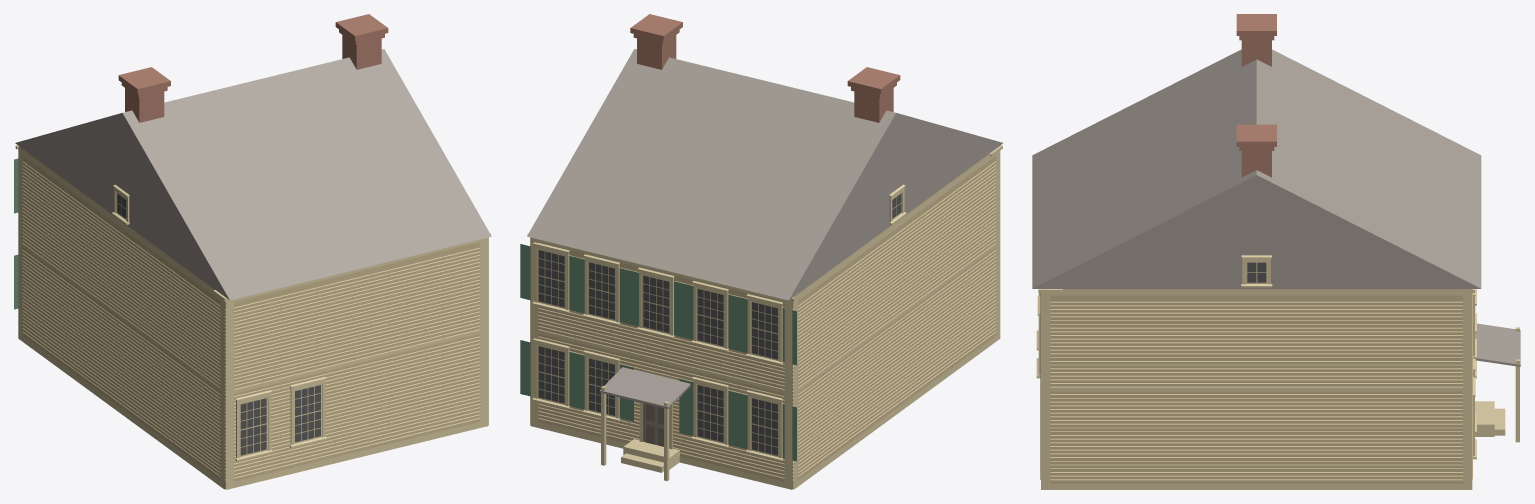
Rendered from recon_1835_blk_washington_wells_h2_07__inferred_1835.glb.
3 renders of one model, left to right at view 1: azimuth 30°, elevation 25°; view 2: azimuth 150°, elevation 25°; view 3: azimuth 270°, elevation 25°, orthographic. The views are drawn at different scales.
Parts seen in each view (by area): view 1: recon_1835_blk_washington_wells_h2_07__inferred_1835; view 2: recon_1835_blk_washington_wells_h2_07__inferred_1835; view 3: recon_1835_blk_washington_wells_h2_07__inferred_1835.
Part boxes in pixels (<box>): recon_1835_blk_washington_wells_h2_07__inferred_1835: <box>14,14,491,489</box>; recon_1835_blk_washington_wells_h2_07__inferred_1835: <box>520,14,1003,489</box>; recon_1835_blk_washington_wells_h2_07__inferred_1835: <box>1032,14,1520,489</box>.
Size of the model in its own units: 9.32 by 10.63 by 13.64.
